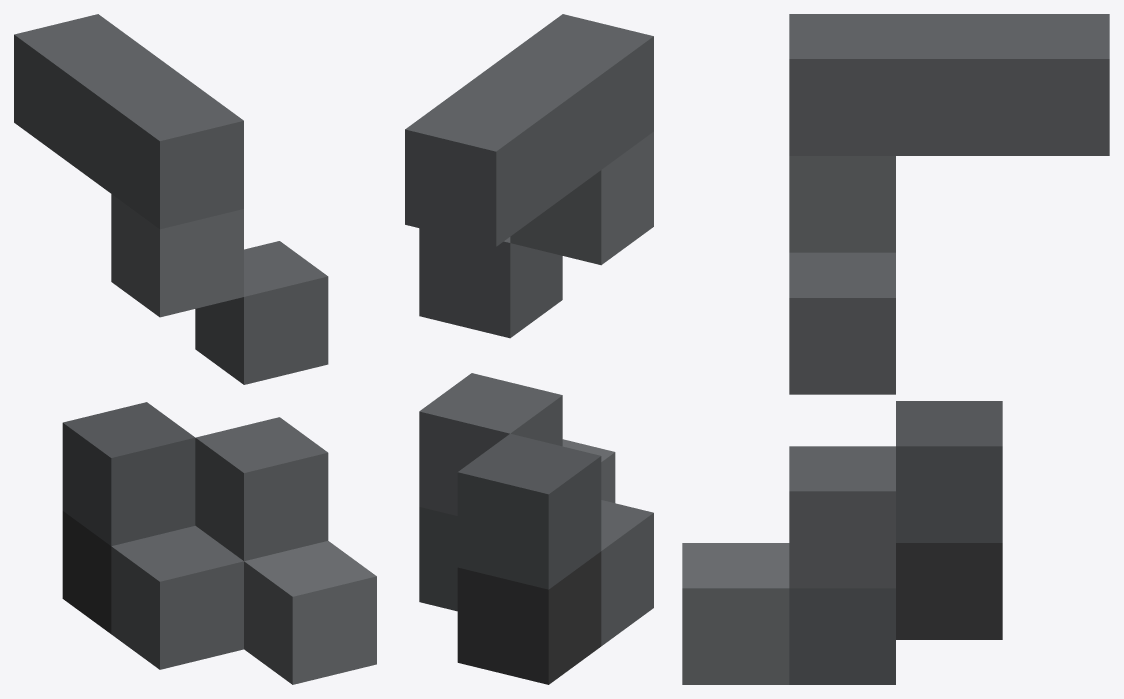
Rendered from wolfneonLegLeftFront.obj.
The picture shows the model from 3 angles, left to right: view 1: azimuth 30°, elevation 25°; view 2: azimuth 150°, elevation 25°; view 3: azimuth 270°, elevation 25°; orthographic projection. The views are drawn at different scales.
Visible parts, largest first — view 1: wolfneonLegLeftFront; view 2: wolfneonLegLeftFront; view 3: wolfneonLegLeftFront.
Boxes of the visible parts, left/top/right/bottom form: wolfneonLegLeftFront: left=14, top=14, right=376, bottom=684; wolfneonLegLeftFront: left=405, top=14, right=653, bottom=684; wolfneonLegLeftFront: left=682, top=14, right=1109, bottom=684.
Size of the model in its own units: 2 by 6 by 4.
Materials: 1 (1 with a texture image).
